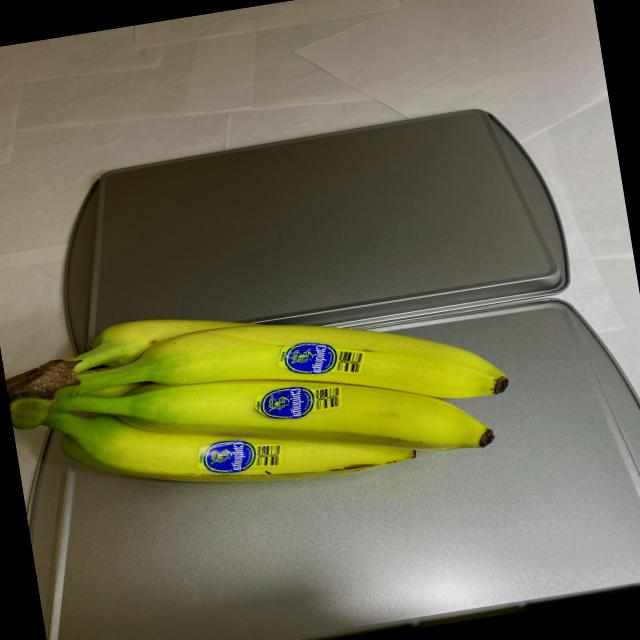banana: (14, 260, 526, 546)
